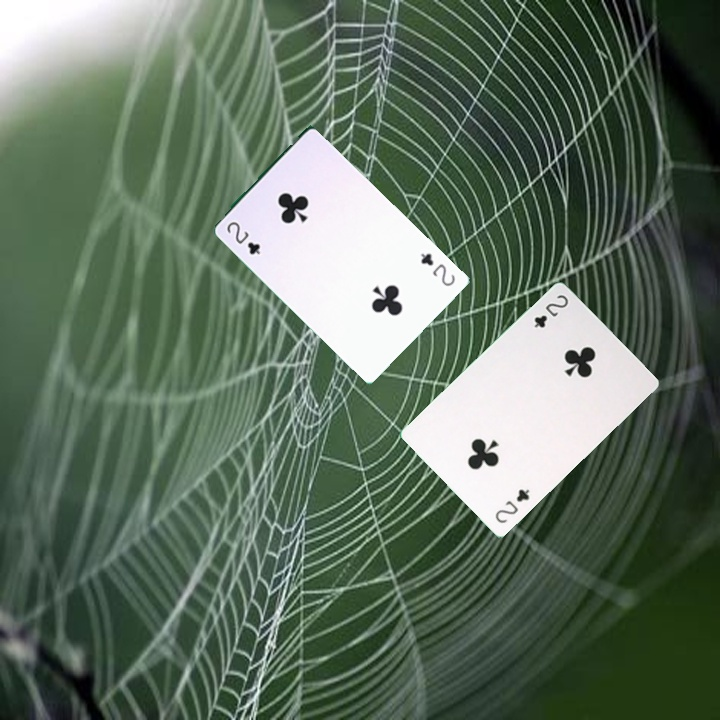2c: (491, 485, 532, 526), (416, 249, 458, 289), (530, 291, 571, 331), (223, 217, 263, 257)
